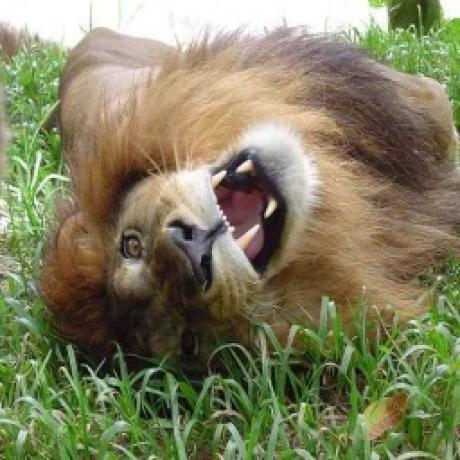Lion: (41, 19, 460, 392)
